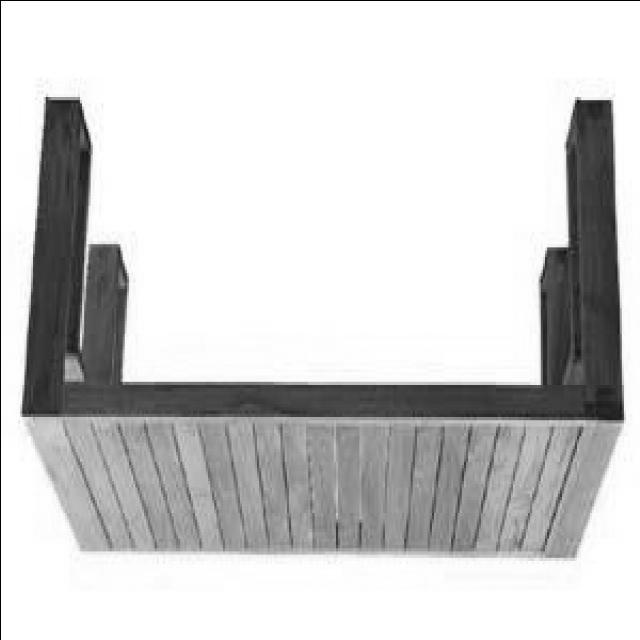table: (20, 98, 618, 554)
